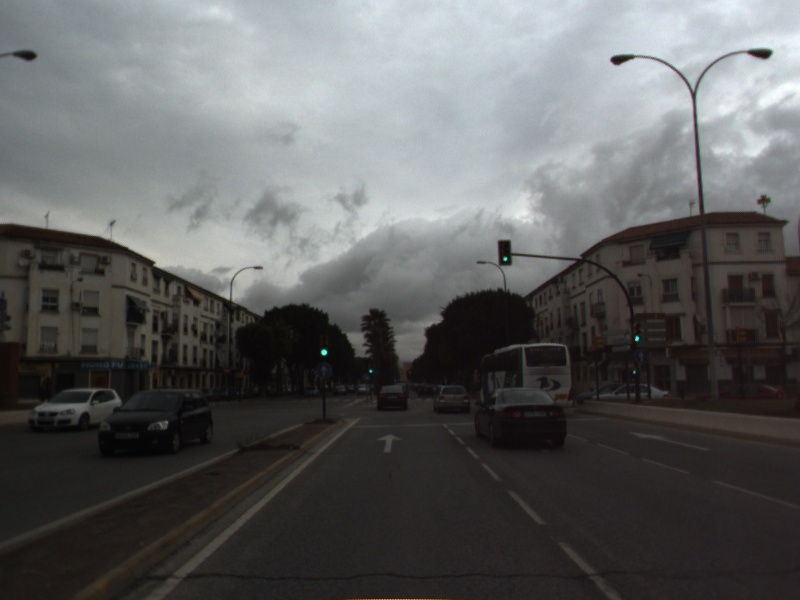STRAIGHT: (628, 429, 716, 453), (374, 432, 405, 455)
